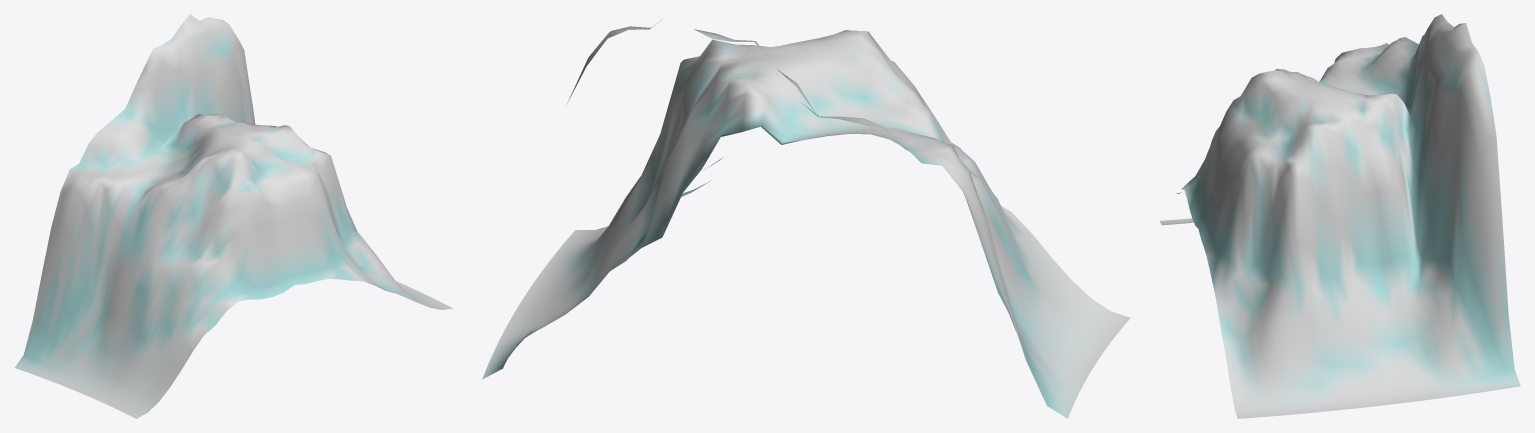
File: middle_16.glb
3 views of the same model, side by side, from view 1: azimuth 30°, elevation 25°; view 2: azimuth 150°, elevation 25°; view 3: azimuth 270°, elevation 25° (orthographic). The views are drawn at different scales.
Visible parts, largest first — view 1: Mountain; view 2: Mountain; view 3: Mountain.
Part boxes in pixels (x1,y1,x2,y2): Mountain: (14, 14, 452, 418); Mountain: (482, 19, 1130, 418); Mountain: (1159, 14, 1520, 418).
Bounding box in the file's own units: 658 × 422 × 457.
